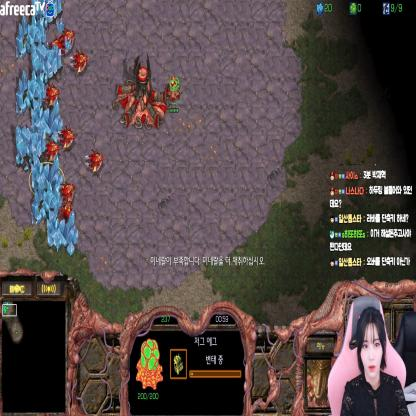streamer: (341, 306, 411, 416)
